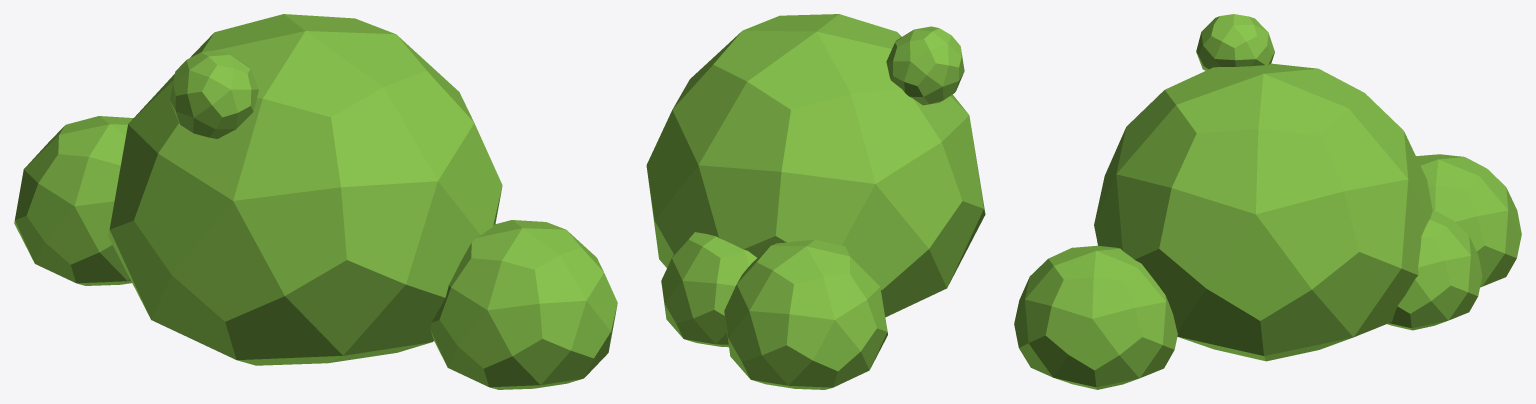
The model's file is Bush_1.fbx.
3 views of the same model, side by side, from view 1: azimuth 30°, elevation 25°; view 2: azimuth 150°, elevation 25°; view 3: azimuth 270°, elevation 25° (orthographic). The views are drawn at different scales.
Parts seen in each view (by area): view 1: Icosphere; view 2: Icosphere; view 3: Icosphere.
Boxes of the visible parts, bbox=[...] form: Icosphere: bbox=[14, 14, 617, 389]; Icosphere: bbox=[646, 14, 985, 389]; Icosphere: bbox=[1014, 14, 1521, 389].
Size of the model in its own units: 160 by 127 by 224.
